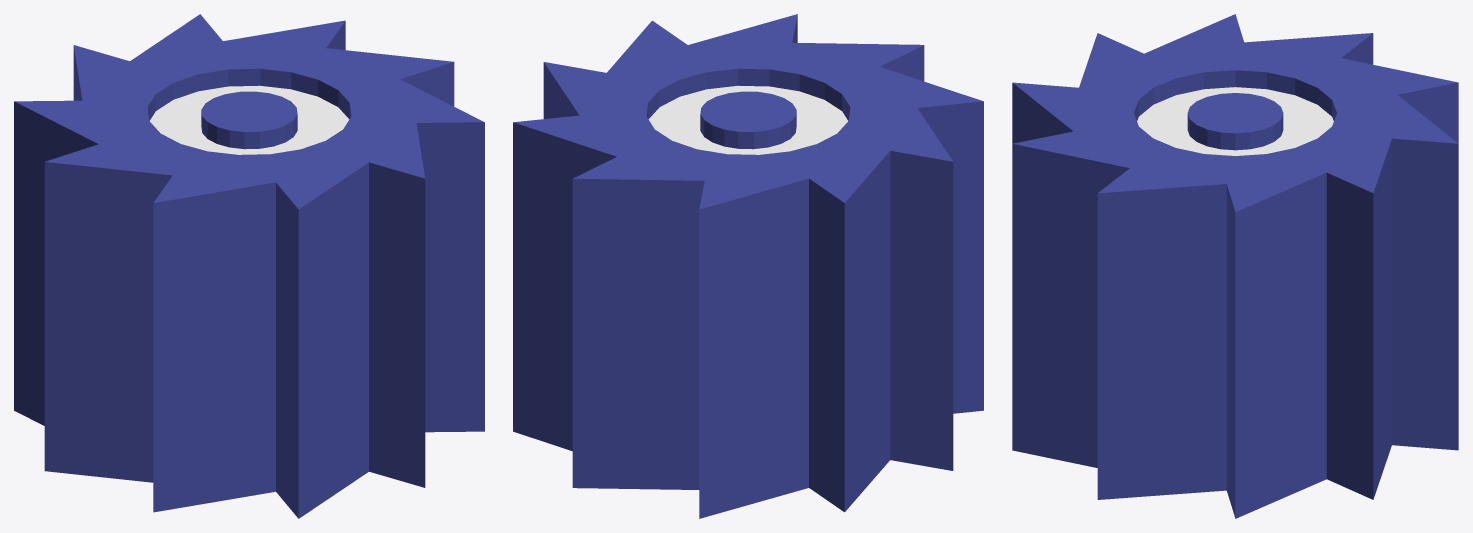
File: shredder.fbx
The picture shows the model from 3 angles, left to right: view 1: azimuth 30°, elevation 25°; view 2: azimuth 150°, elevation 25°; view 3: azimuth 270°, elevation 25°; orthographic projection.
Visible parts, largest first — view 1: shredder; view 2: shredder; view 3: shredder.
Boxes of the visible parts, bbox=[...] form: shredder: bbox=[14, 14, 484, 518]; shredder: bbox=[513, 14, 983, 518]; shredder: bbox=[1012, 14, 1458, 518].
Bounding box in the file's own units: 60.36 × 43.54 × 57.41.
